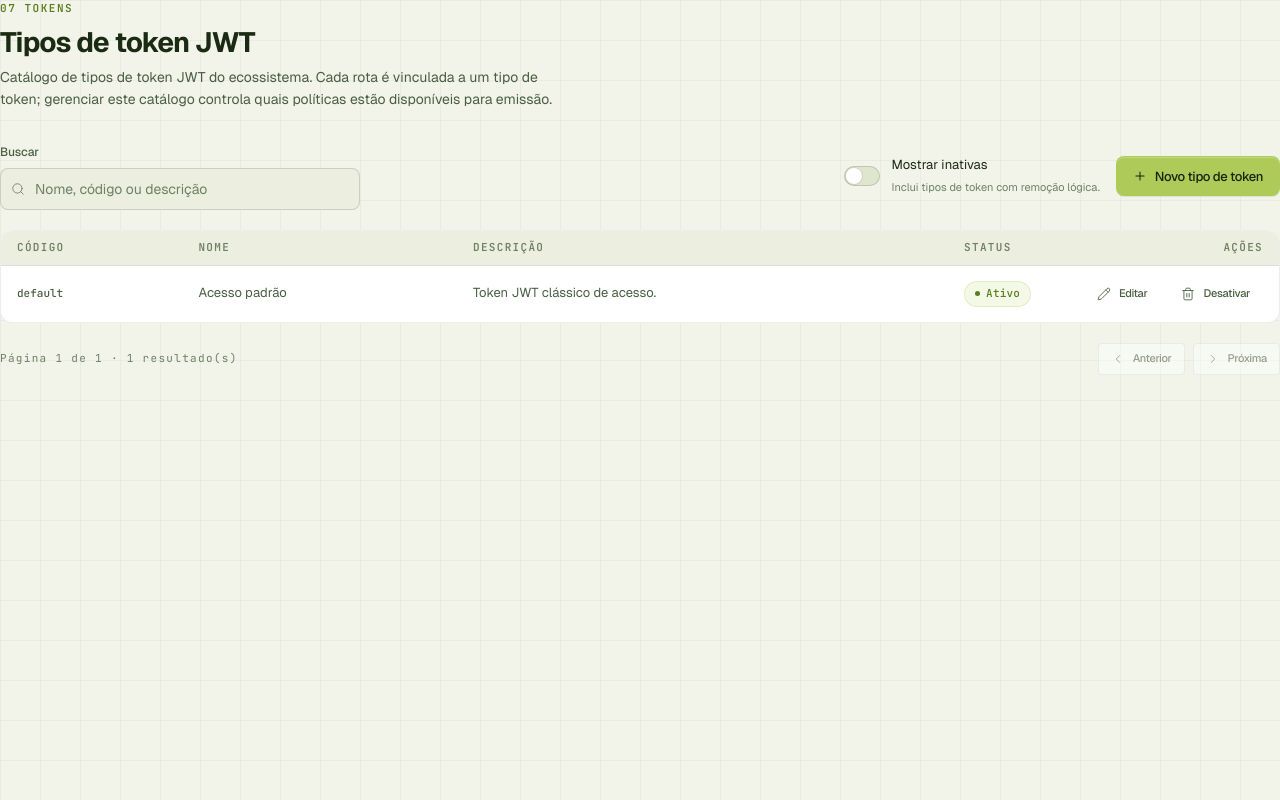
TokensListShellPage — fluxo "Novo tipo de token" › cria token type com sucesso, fecha o modal e refaz fetch
Click the button with test id "token-types-create-open" at [1198, 176], box [1116,156,1279,196]
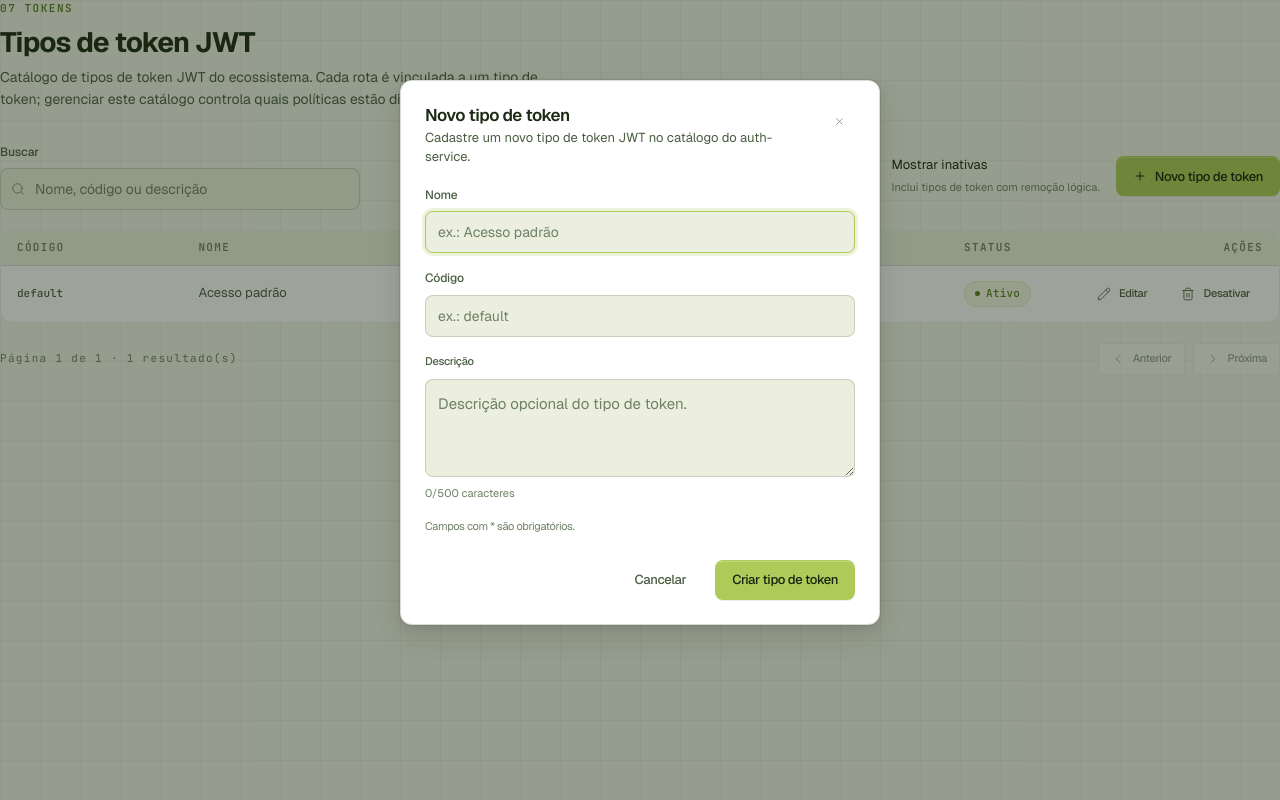
Type "  Renovação  " into the field with test id "new-token-type-name" at [640, 232], box [425,211,855,253]
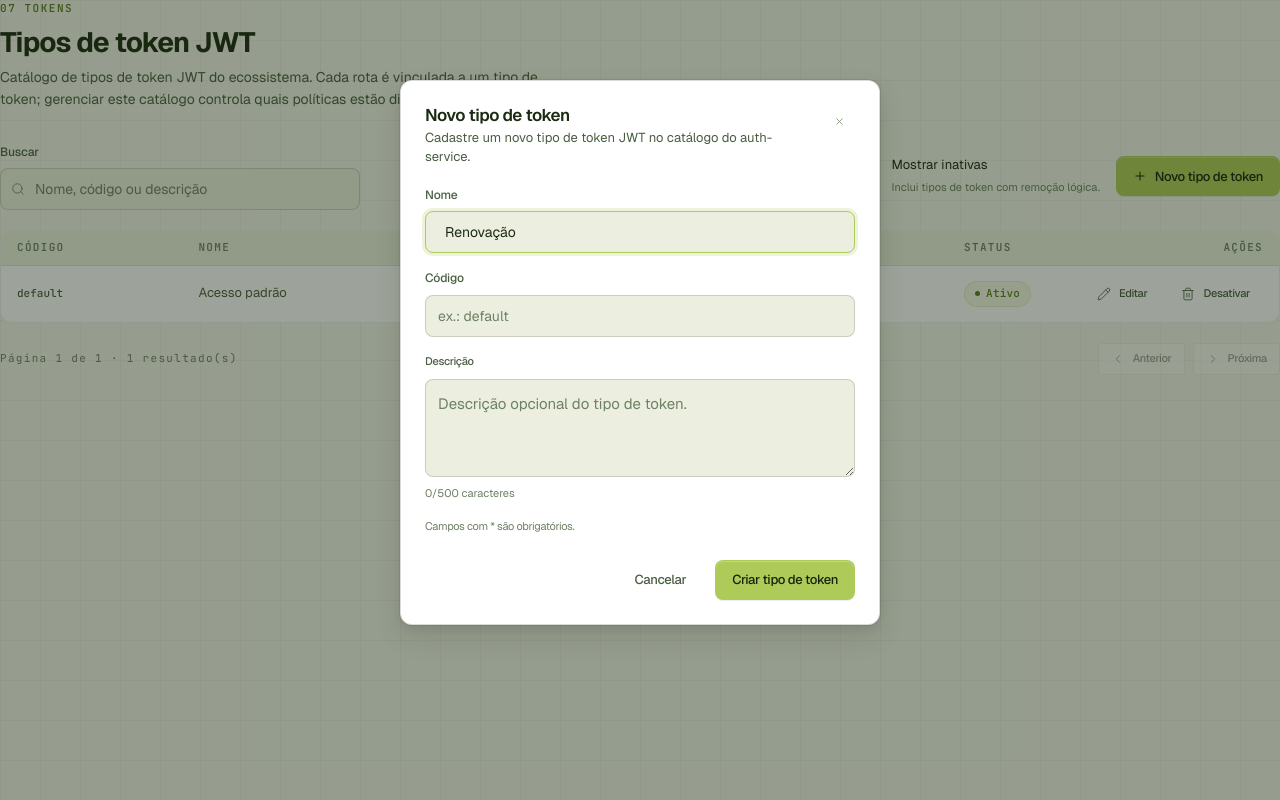
Type "refresh" into the field with test id "new-token-type-code" at [640, 316], box [425,294,855,337]
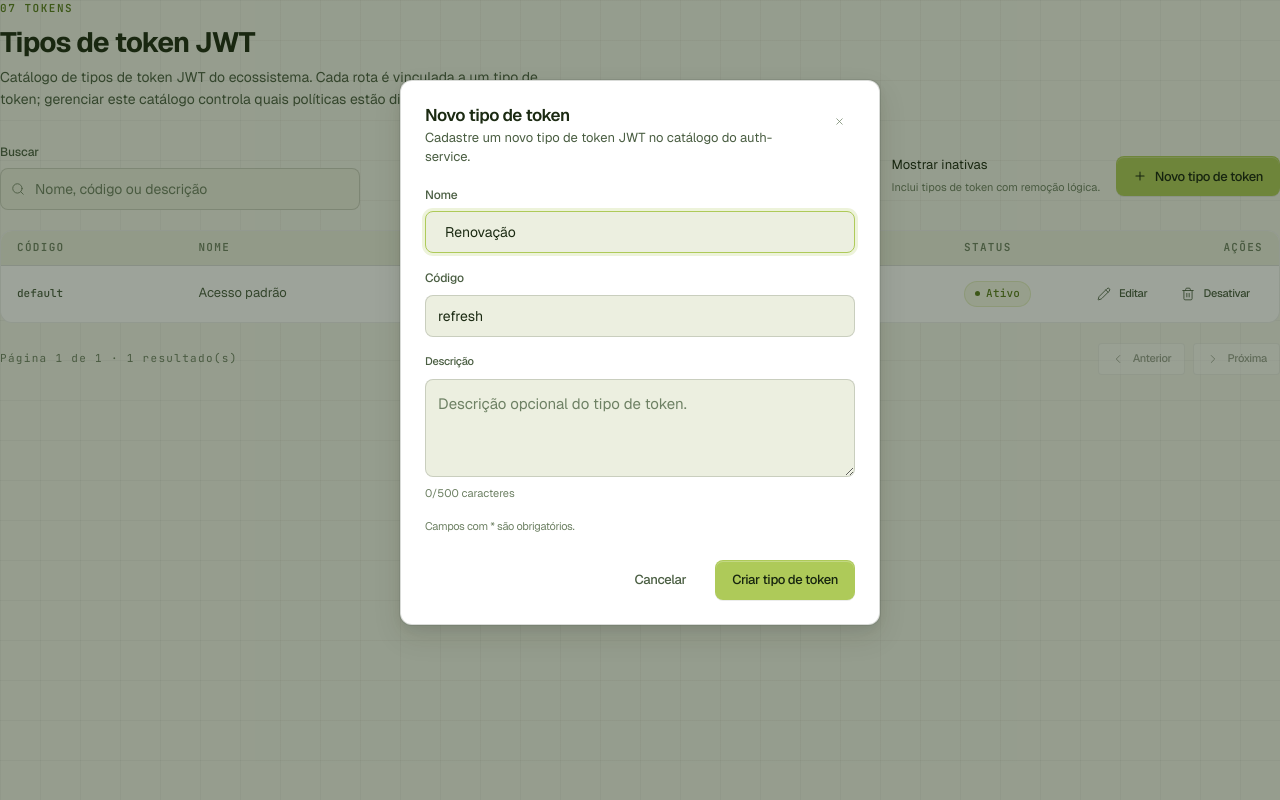
Type "Token de refresh." into the text box with test id "new-token-type-description" at [640, 428], box [425,378,855,476]
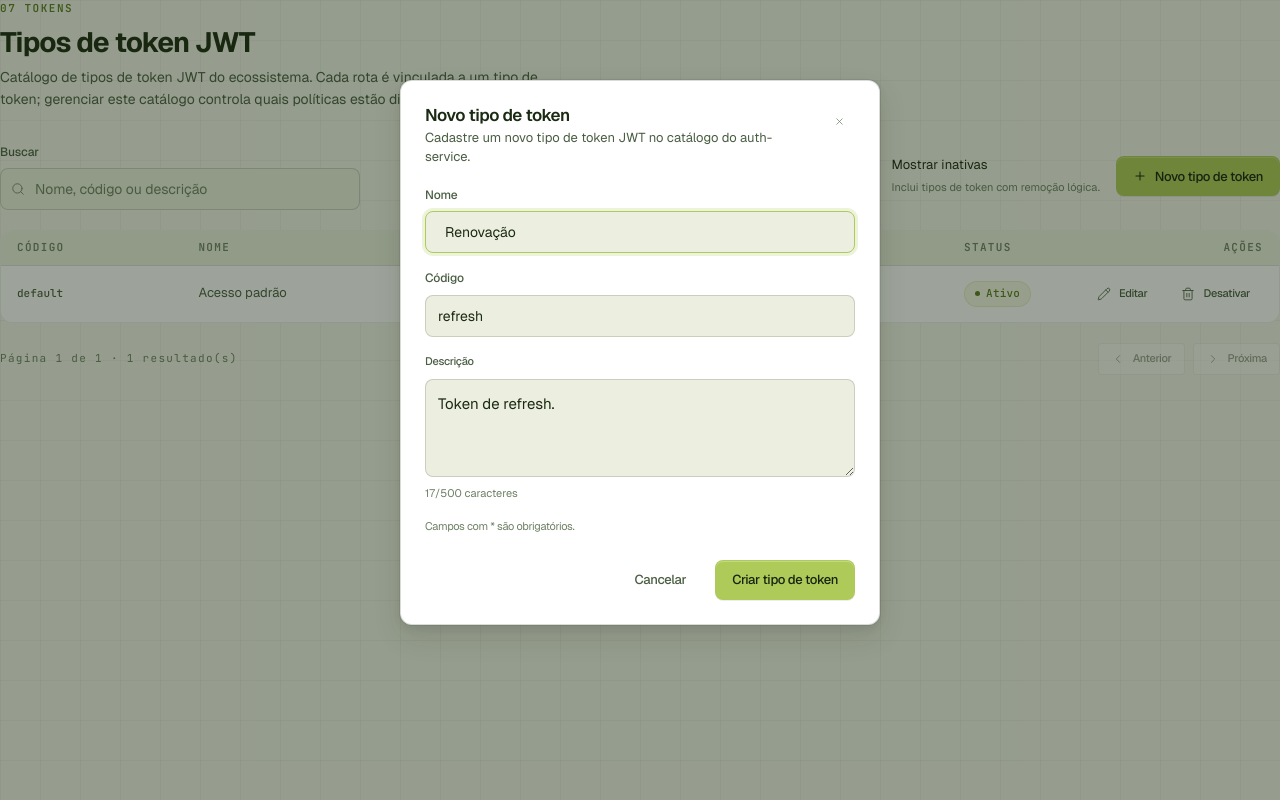
Submit the form with test id "new-token-type-form", box [425,186,855,600]
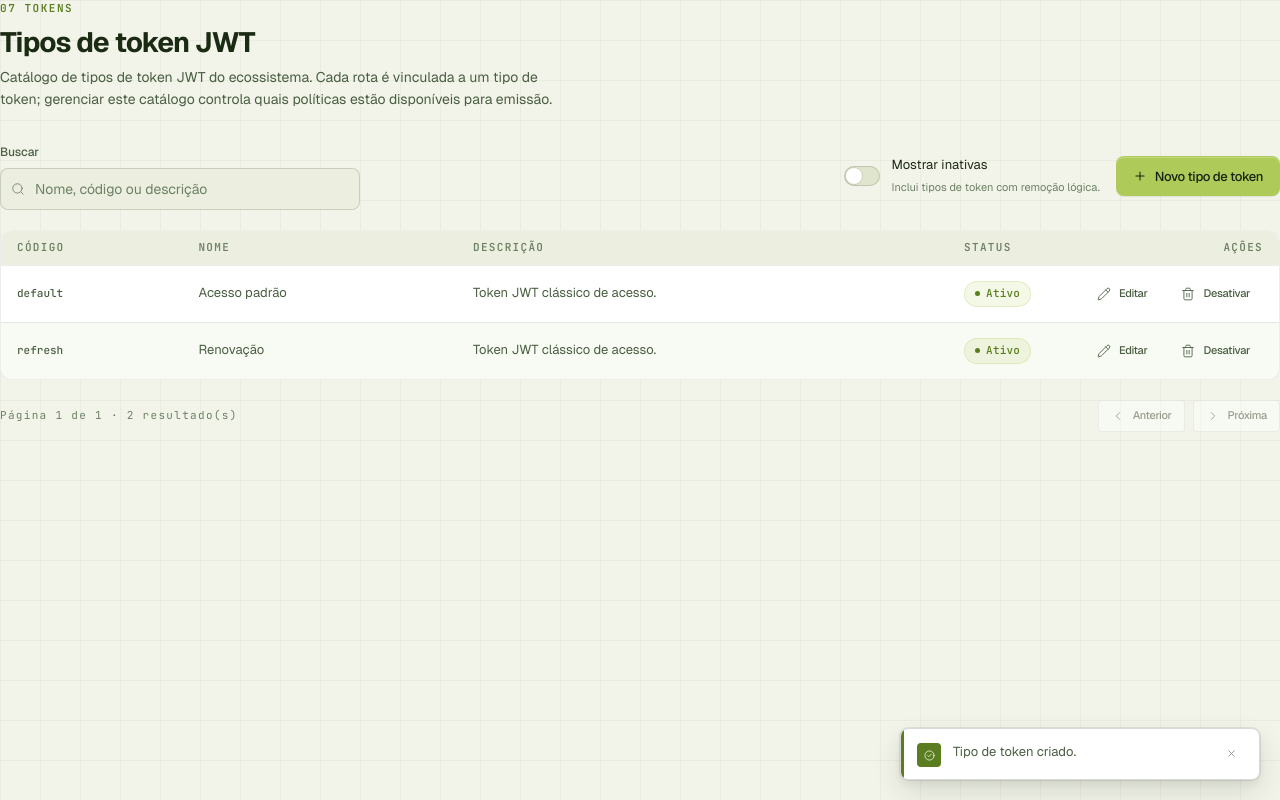
Check: the form with test id "new-token-type-form" is gone
